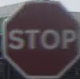Stop: (7, 10, 76, 78)
